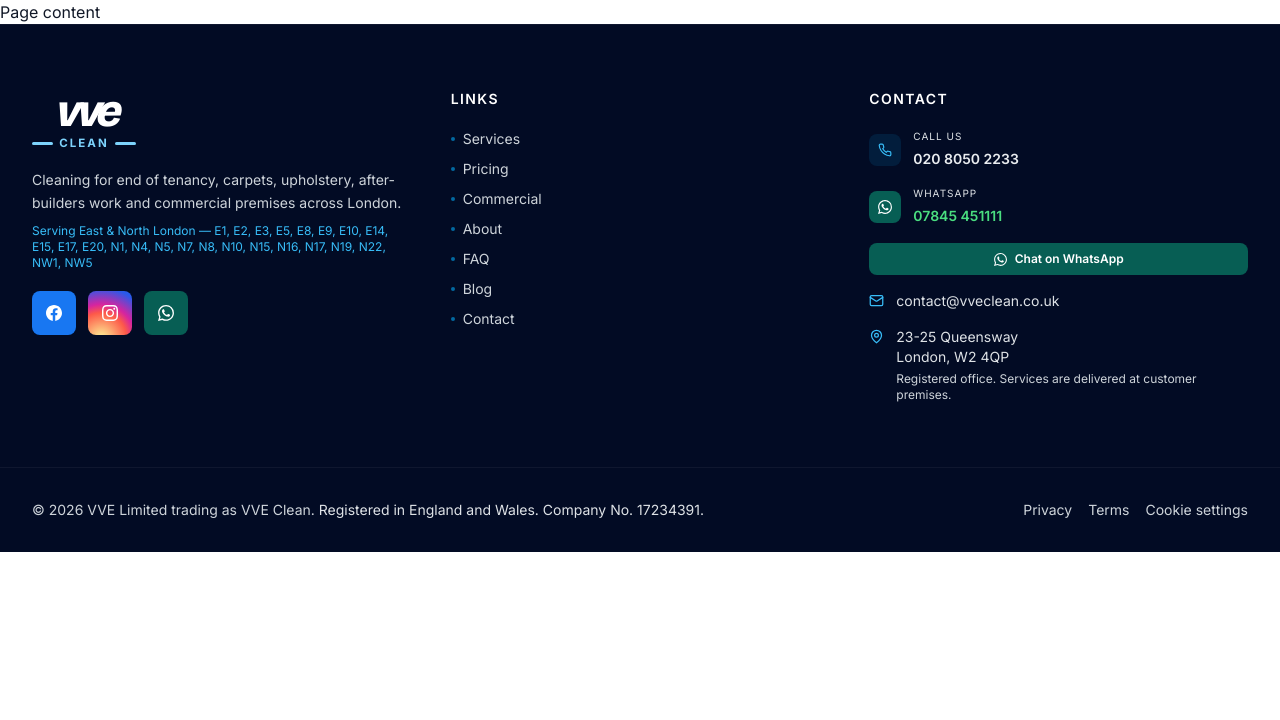
Scenario: CookieConsentProvider — reopening settings from the footer › shows a "Cookie settings" link in the footer that reopens the dialog
Click the button "Cookie settings": (1197, 510) [1146, 488, 1248, 532]
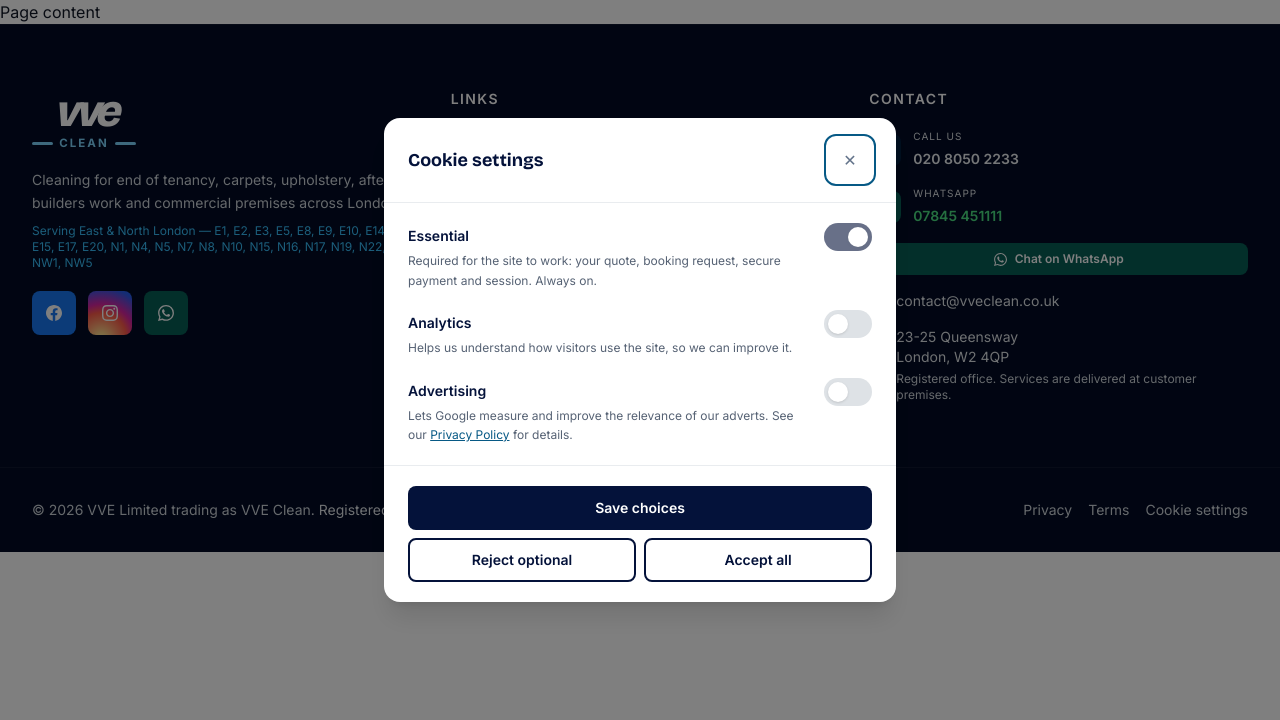
Expected: the dialog "Cookie settings" is shown, [384, 118, 896, 602]
